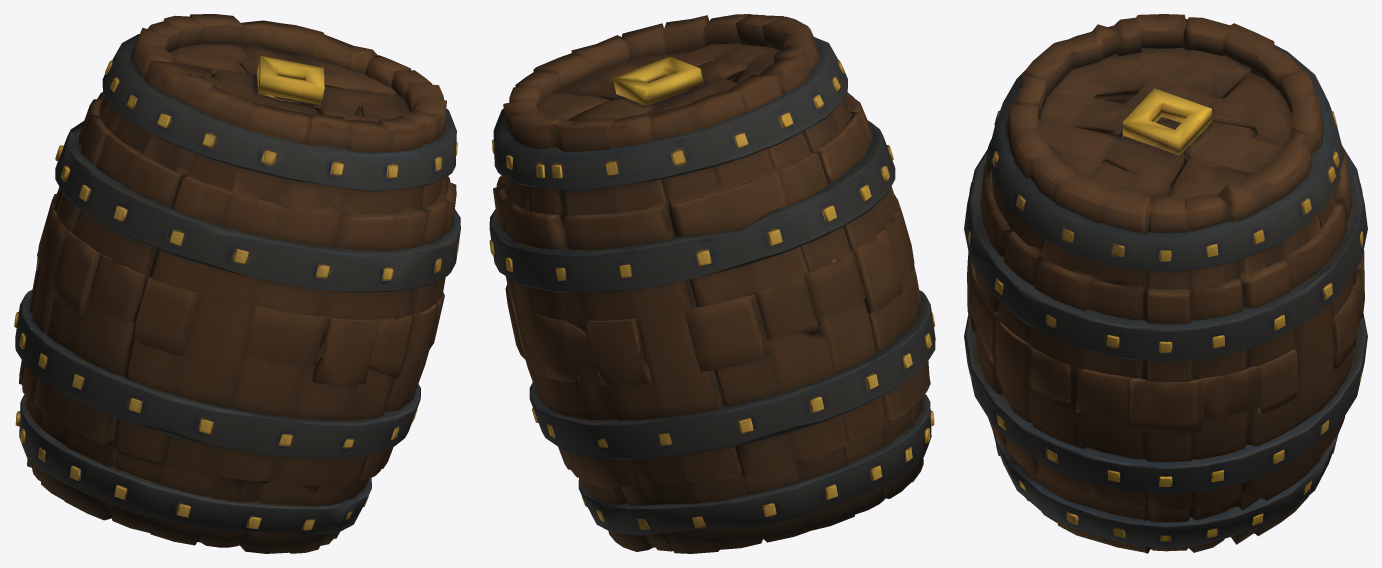
File: barril.fbx
3 views of the same model, side by side, from view 1: azimuth 30°, elevation 25°; view 2: azimuth 150°, elevation 25°; view 3: azimuth 270°, elevation 25° (orthographic).
Parts seen in each view (by area): view 1: tripo_7d68346e_bc78_473b_a969_d01b76569183; view 2: tripo_7d68346e_bc78_473b_a969_d01b76569183; view 3: tripo_7d68346e_bc78_473b_a969_d01b76569183.
Boxes of the visible parts, <box> form: tripo_7d68346e_bc78_473b_a969_d01b76569183: <box>14,14,460,553</box>; tripo_7d68346e_bc78_473b_a969_d01b76569183: <box>489,14,935,553</box>; tripo_7d68346e_bc78_473b_a969_d01b76569183: <box>964,14,1367,553</box>.
Bounding box in the file's own units: 0.8779 × 0.9995 × 0.7876.
Materials: 1 (1 with a texture image).
